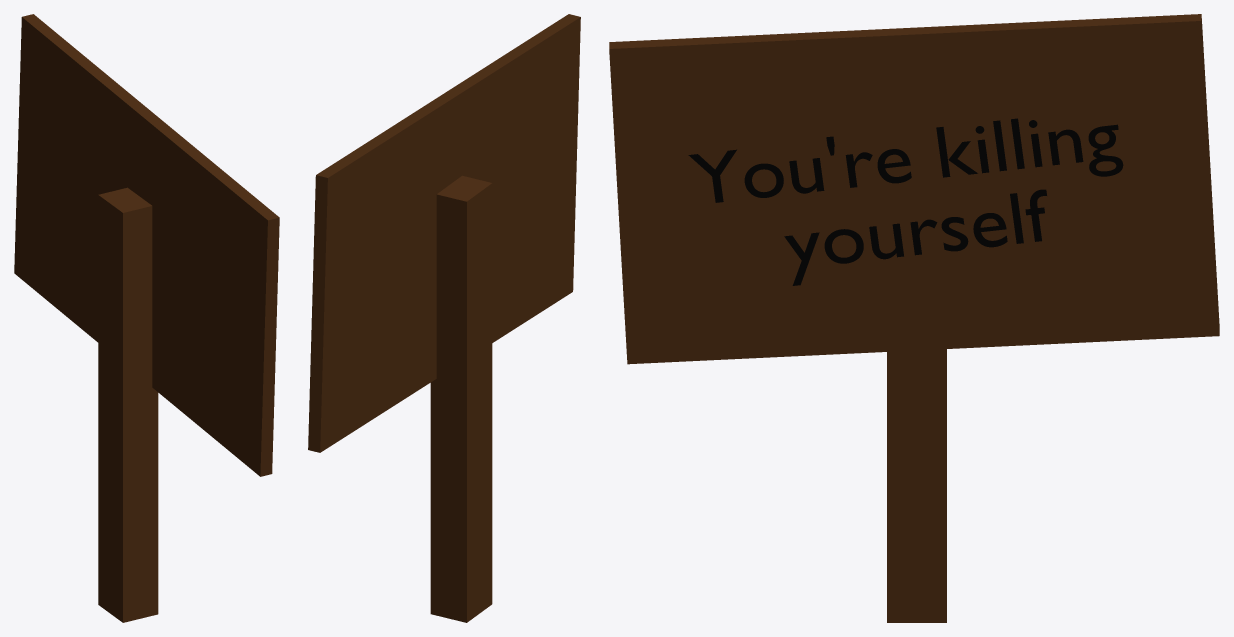
File: table.obj
3 views of the same model, side by side, from view 1: azimuth 30°, elevation 25°; view 2: azimuth 150°, elevation 25°; view 3: azimuth 270°, elevation 25° (orthographic). The views are drawn at different scales.
Visible parts, largest first — view 1: Cube.001, Cube; view 2: Cube.001, Cube; view 3: Cube.001, Cube, Text.
Part boxes in pixels (x1,y1,x2,y2): Cube.001: [14, 14, 279, 476]; Cube: [98, 187, 158, 622]; Cube.001: [308, 14, 580, 452]; Cube: [430, 175, 492, 622]; Cube.001: [609, 14, 1219, 364]; Cube: [887, 349, 946, 622]; Text: [688, 118, 1123, 285].
Bounding box in the file's own units: 0.22 × 2.46 × 2.24.
